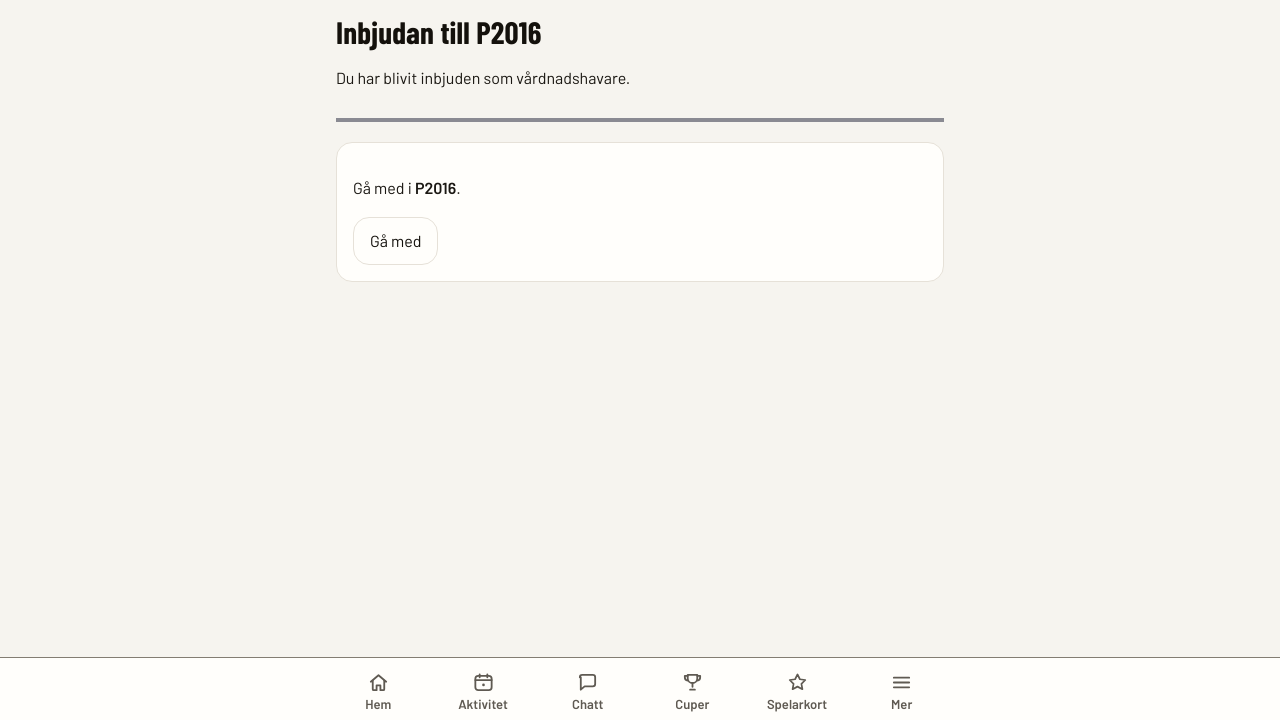
Test: Inbjudningens landningssida › en inloggad med rätt adress kan gå med
This screenshot has width=1280, height=720.
Click the button "Gå med": click(396, 241) 353,217 -> 438,265
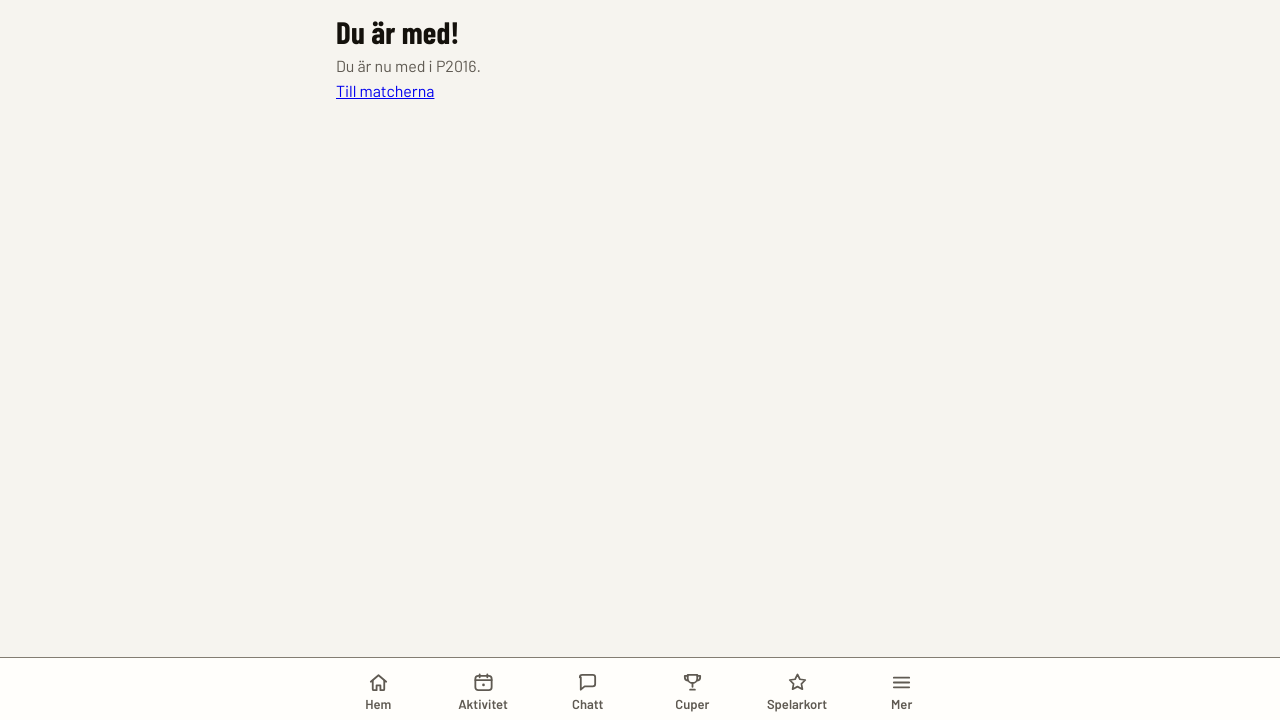
Expected: the heading "Du är med!" is shown, 336,13 -> 459,50
